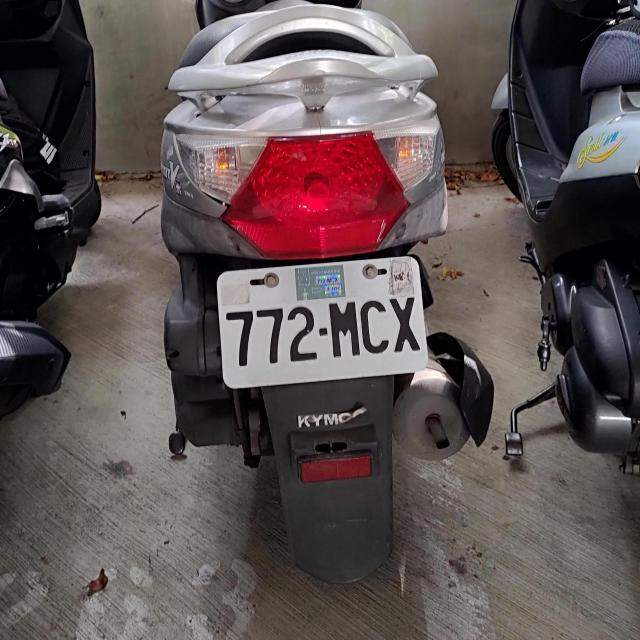W: (215, 254, 428, 387)
